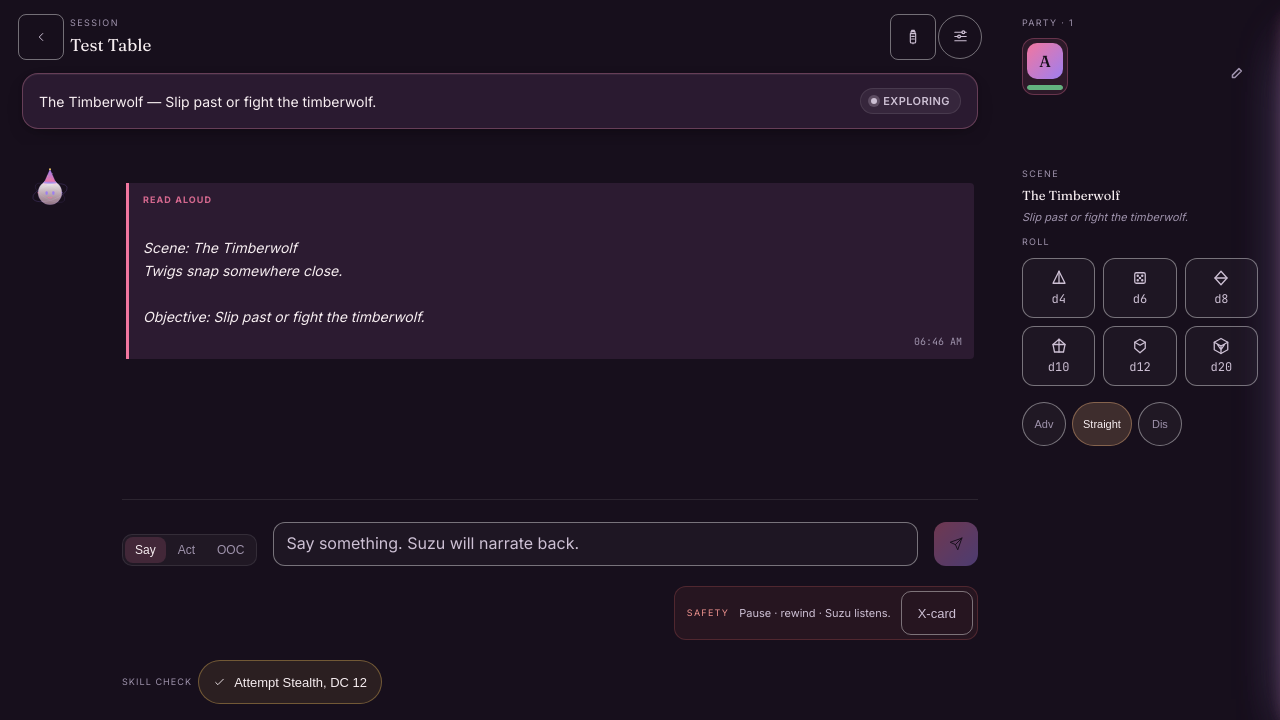
Test case: F4/CHECK-DOUBLE-RENDER — flag-ON durable poll dedup › optimistic row renders once; a poll tick re-delivering the SAME check_resolved event is deduped, not double-rendered
Expected: the text "Test Table" is shown, [70, 32, 151, 57]
Click the button "Attempt Stealth, DC 12": x=290, y=682 [198, 660, 382, 704]
Wait 4000 ms
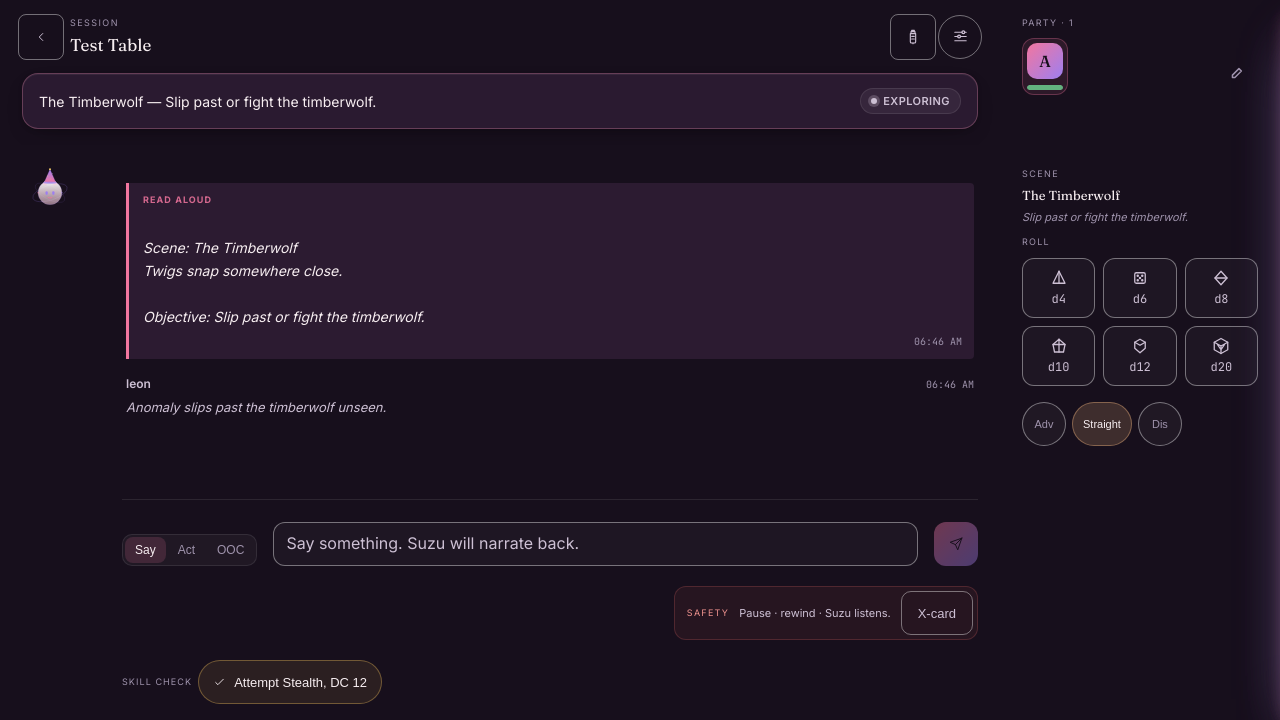
Expected: the text "Anomaly slips past the timberwolf unseen." is shown once, [126, 399, 386, 415]
